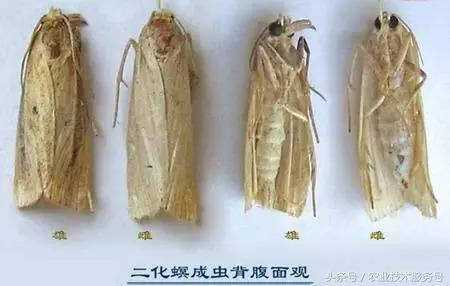Crambidae: (110, 1, 205, 232), (346, 3, 438, 221), (11, 5, 101, 218), (243, 9, 322, 220)
